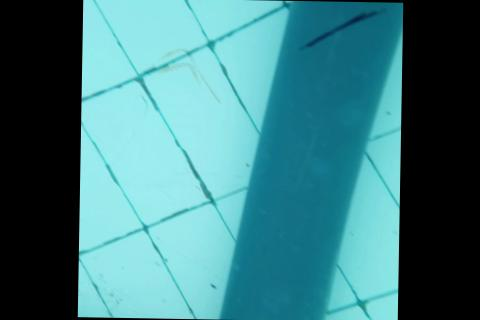keretakan: (298, 5, 388, 53)
